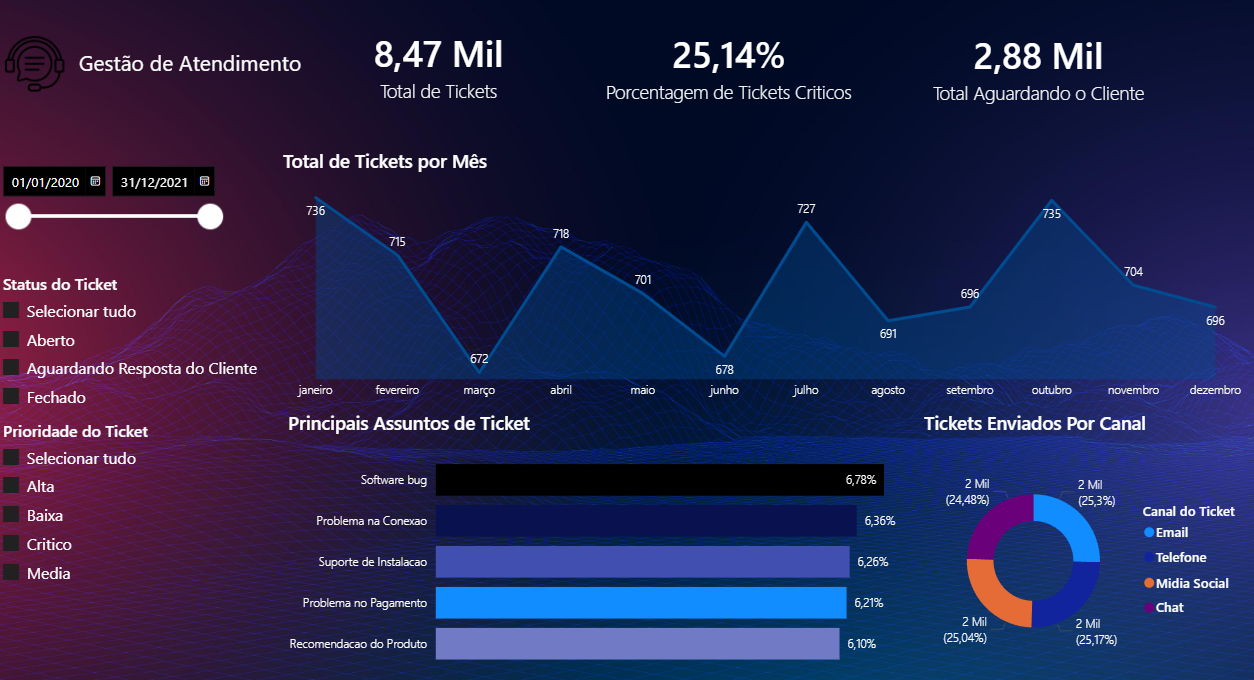

This screenshot's page, from the dashboard's own definition file:
{"tool":"powerbi","page":{"name":"Dashboard Tickets","canvas":[1280,720],"ordinal":1},"visuals":[{"type":"cardVisual","fields":{"Data":["medidas.Total de Tickets"]},"box":[336.6,0,231.8,151.2],"z":0},{"type":"cardVisual","fields":{"Data":["medidas.Porcentagem de Criticos do Total"]},"box":[586.6,0,316.5,152.2],"z":1000},{"type":"cardVisual","fields":{"Data":["medidas.Total Aguardando o Cliente"]},"box":[919.2,0,275.1,155.2],"z":2000},{"type":"barChart","title":"Principais Assuntos de Ticket","fields":{"Category":["customer_support_tickets.Assunto do Ticket"],"Y":["medidas.Total de Tickets"]},"box":[295.3,422.3,637,274.1],"z":3000},{"type":"donutChart","title":"Tickets Enviados Por Canal","fields":{"Category":["customer_support_tickets.Canal do Ticket"],"Y":["medidas.Total de Tickets"]},"box":[936.3,422.3,337.6,279.2],"z":4000},{"type":"lineChart","fields":{"Category":["dCalendario.Date.Variation.Hierarquia de datas.Ano","dCalendario.Date.Variation.Hierarquia de datas.Trimestre","dCalendario.Date.Variation.Hierarquia de datas.Mês","dCalendario.Date.Variation.Hierarquia de datas.Dia"],"Y":["medidas.Total de Tickets"]},"box":[290.3,158.2,982.7,262],"z":5000},{"type":"slicer","fields":{"Values":["customer_support_tickets.Prioridade do Ticket"]},"box":[0,427.3,272.1,188.5],"z":6000},{"type":"slicer","fields":{"Values":["dCalendario.Date"]},"box":[0,166.3,242.9,107.8],"z":7000},{"type":"slicer","fields":{"Values":["customer_support_tickets.Status do Ticket"]},"box":[0,279.2,281.2,148.2],"z":8000},{"type":"textbox","box":[84.7,52.4,236.9,49.4],"z":9000},{"type":"image","box":[0,43.3,89.7,60.5],"z":9001}]}

Visuals, with their boxes on the page's 1280x720 design canvas (x1, y1, x2, y2). These are canvas units, not pixel positions in the 1254x680 screenshot, which may show the page scaled, cropped or inside an application window:
cardVisual - medidas.Total de Tickets: locate(337, 0, 568, 151)
cardVisual - medidas.Porcentagem de Criticos do Total: locate(587, 0, 903, 152)
cardVisual - medidas.Total Aguardando o Cliente: locate(919, 0, 1194, 155)
"Principais Assuntos de Ticket" barChart: locate(295, 422, 932, 696)
"Tickets Enviados Por Canal" donutChart: locate(936, 422, 1274, 702)
lineChart - dCalendario.Date.Variation.Hierarquia de datas.Ano x dCalendario.Date.Variation.Hierarquia de datas.Trimestre: locate(290, 158, 1273, 420)
slicer - customer_support_tickets.Prioridade do Ticket: locate(0, 427, 272, 616)
slicer - dCalendario.Date: locate(0, 166, 243, 274)
slicer - customer_support_tickets.Status do Ticket: locate(0, 279, 281, 427)
textbox: locate(85, 52, 322, 102)
image: locate(0, 43, 90, 104)
